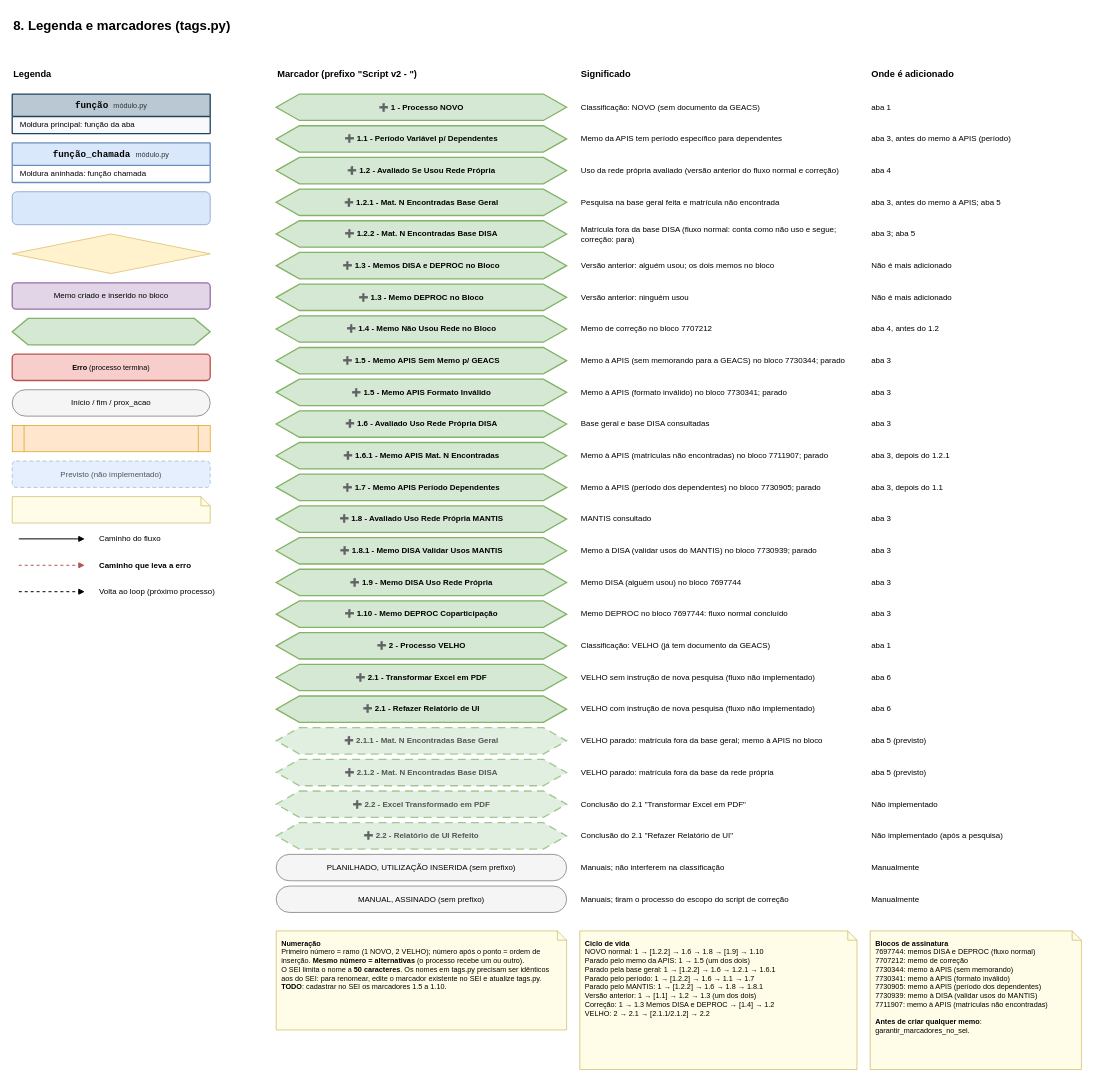
This 1093x1081 diagram has some shape labels left out. Here are the shapes that lost their labels. From the top down, the centre of each, then its label:
point 111,208: funcao Ação do script
point 111,253: Pergunta (divide o fluxo)
point 111,331: ➕ Marcador adicionado
point 111,438: Detalhado na aba N → (clique)
point 111,509: Nota
